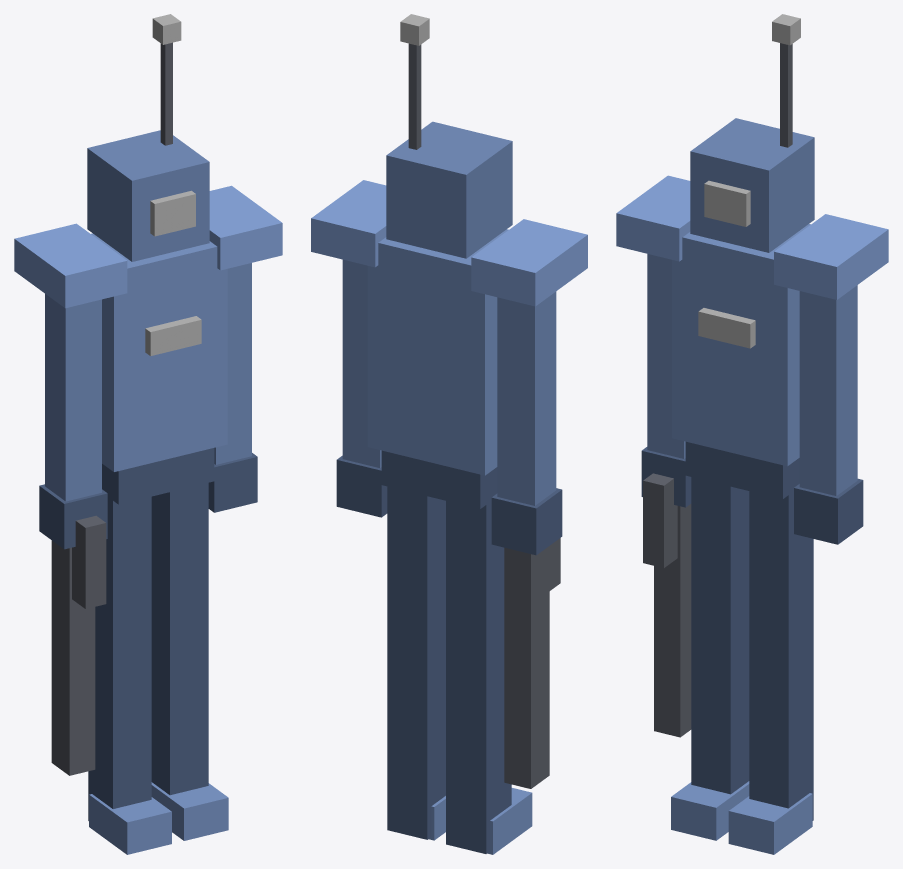
File: sentinel.glb
The picture shows the model from 3 angles, left to right: view 1: azimuth 30°, elevation 25°; view 2: azimuth 150°, elevation 25°; view 3: azimuth 330°, elevation 25°; orthographic projection. The views are drawn at different scales.
Visible parts, largest first — view 1: sentinel*0.4 (×5), sentinel (×3), sentinel*0.9 (×2), c1f2129 (×3), sentinel*0.85, sentinel*1.25 (×2), glow*0.2, glow*0.3, glow*1; view 2: sentinel*0.4 (×5), sentinel (×3), sentinel*0.9 (×2), sentinel*0.85, c1f2129 (×3), sentinel*1.25 (×2), glow*1; view 3: sentinel*0.4 (×5), sentinel (×3), sentinel*0.9 (×2), sentinel*0.85, sentinel*1.25 (×2), c1f2129 (×3), glow*0.2, glow*0.3, glow*1.
Part boxes in pixels (left/top/right/bottom): sentinel*0.4 (×5): left=39, top=448, right=257, bottom=820; sentinel (×3): left=89, top=233, right=228, bottom=854; sentinel*0.9 (×2): left=45, top=263, right=251, bottom=501; c1f2129 (×3): left=51, top=42, right=172, bottom=775; sentinel*0.85: left=87, top=130, right=209, bottom=261; sentinel*1.25 (×2): left=14, top=185, right=282, bottom=308; glow*0.2: left=150, top=190, right=195, bottom=236; glow*0.3: left=145, top=316, right=201, bottom=356; glow*1: left=152, top=14, right=181, bottom=44; sentinel*0.4 (×5): left=336, top=450, right=562, bottom=853; sentinel (×3): left=367, top=229, right=532, bottom=854; sentinel*0.9 (×2): left=342, top=259, right=556, bottom=505; sentinel*0.85: left=386, top=121, right=512, bottom=258; c1f2129 (×3): left=408, top=43, right=560, bottom=788; sentinel*1.25 (×2): left=311, top=180, right=587, bottom=306; glow*1: left=400, top=14, right=429, bottom=45; sentinel*0.4 (×5): left=641, top=441, right=863, bottom=820; sentinel (×3): left=671, top=224, right=812, bottom=854; sentinel*0.9 (×2): left=647, top=254, right=857, bottom=495; sentinel*0.85: left=690, top=118, right=814, bottom=252; sentinel*1.25 (×2): left=616, top=175, right=888, bottom=299; c1f2129 (×3): left=643, top=43, right=792, bottom=737; glow*0.2: left=704, top=180, right=750, bottom=226; glow*0.3: left=698, top=308, right=755, bottom=348; glow*1: left=772, top=14, right=800, bottom=45.
Size of the model in its own units: 0.84 by 2.92 by 0.3675.
